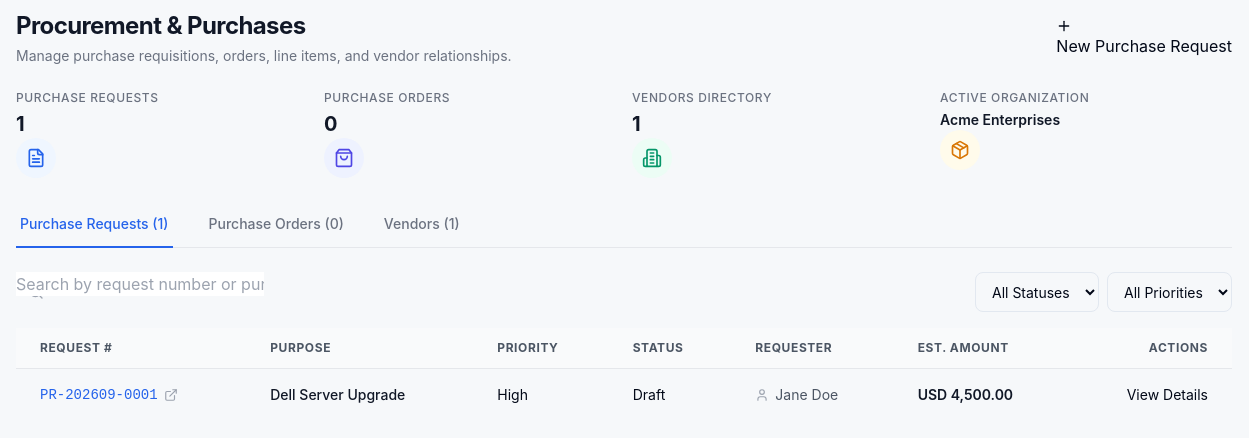
Test: ProcurementPage Component › switches tabs between requests, orders, and vendors
This screenshot has width=1249, height=438.
Expected: the link "PR-202609-0001" is shown, [40,387,178,403]
// Switch to Purchase Orders
Click the button "Purchase Orders (0)" at (276, 225), box [204,202,348,248]
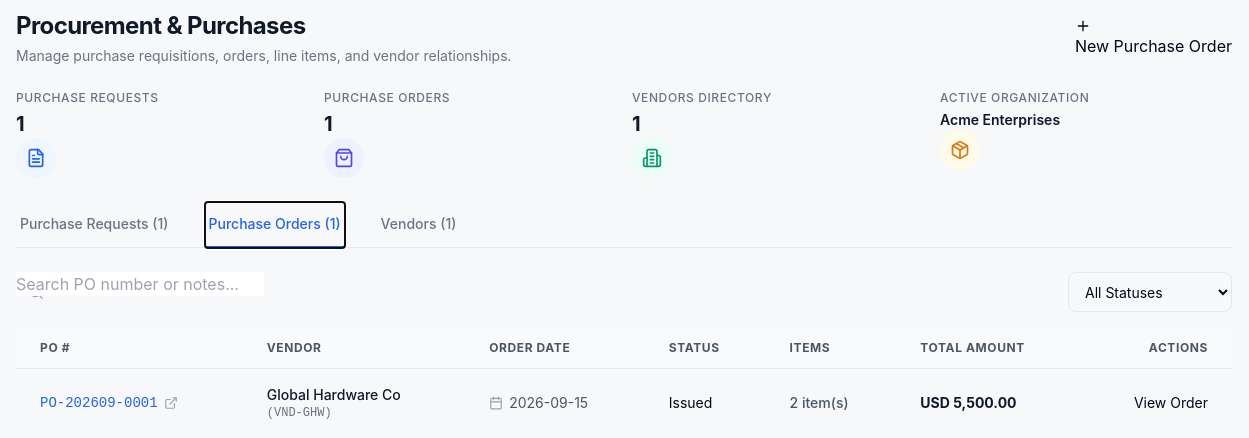
Expected: the link "PO-202609-0001" is shown, [40,395,178,411]
Expected: the text "Global Hardware Co" is shown, [267,386,401,403]
// Switch to Vendors
Click the button "Vendors (1)" at (418, 225), box [377,202,460,248]
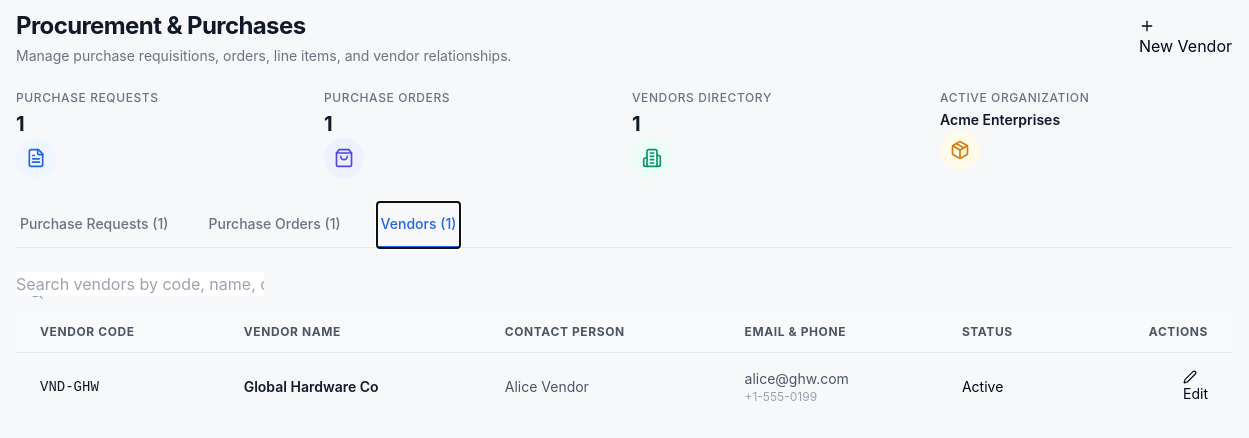
Expected: the text "VND-GHW" is shown, [16,352,220,421]
Expected: the text "Alice Vendor" is shown, [481,352,720,421]
